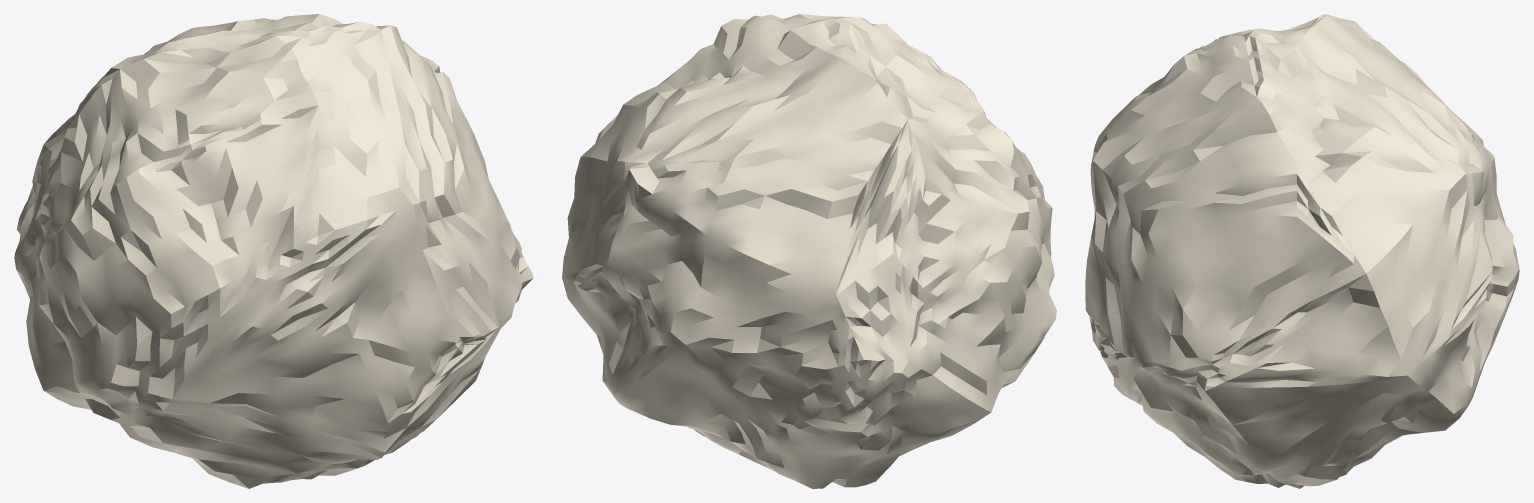
Rendered from piece_paper.fbx.
The picture shows the model from 3 angles, left to right: view 1: azimuth 30°, elevation 25°; view 2: azimuth 150°, elevation 25°; view 3: azimuth 270°, elevation 25°; orthographic projection. The views are drawn at different scales.
Visible parts, largest first — view 1: piece_paper; view 2: piece_paper; view 3: piece_paper.
Boxes of the visible parts, box(x1,y1,x2,y2) form: piece_paper: box(14, 14, 533, 488); piece_paper: box(562, 14, 1056, 488); piece_paper: box(1085, 14, 1519, 488).
Size of the model in its own units: 0.1941 by 0.1978 by 0.1813.
